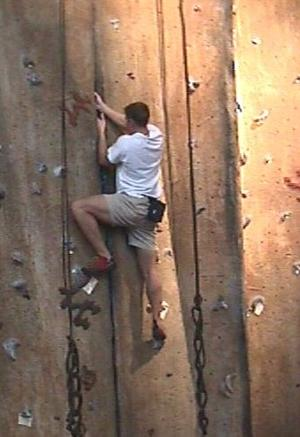person: (73, 89, 168, 352)
